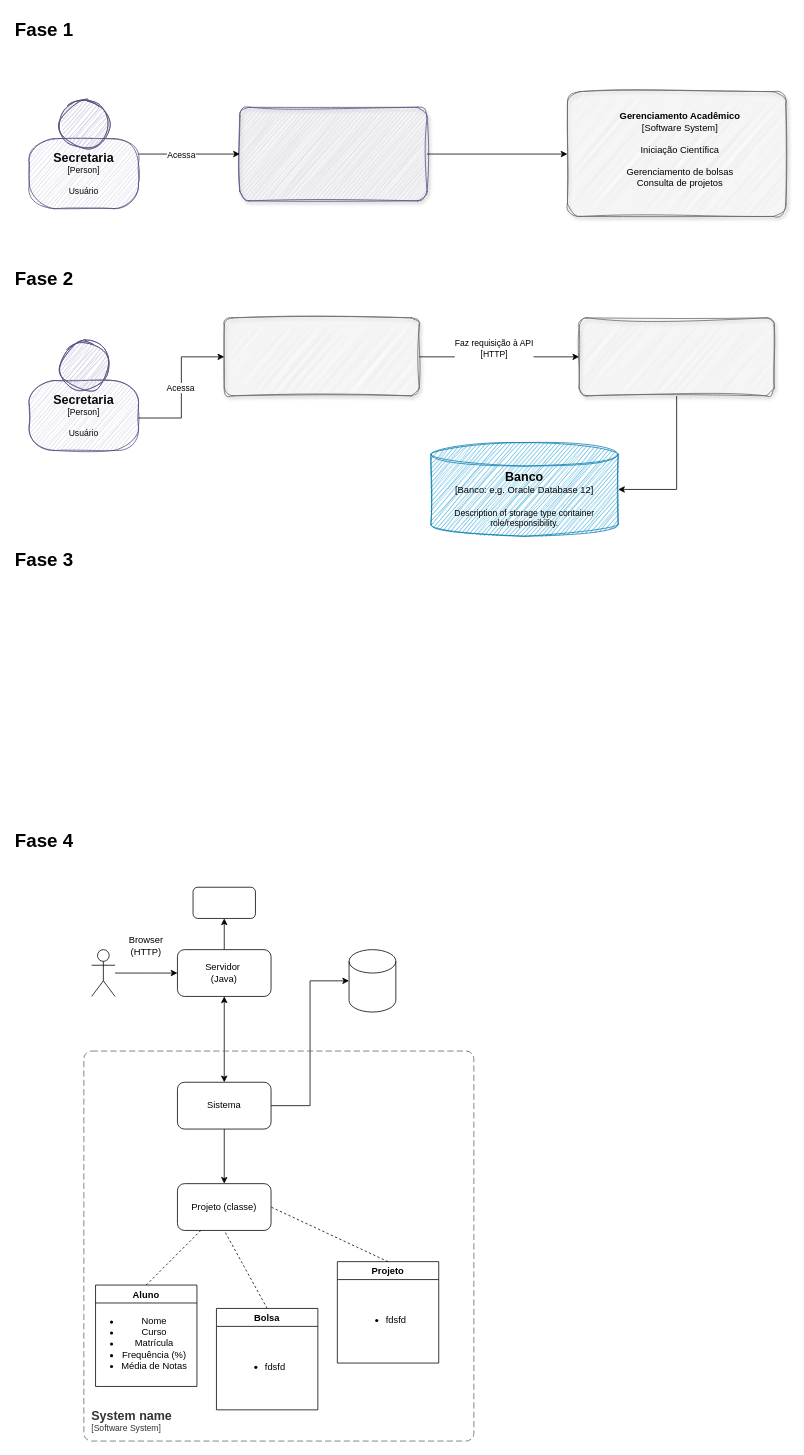
This 804x1455 diagram has some shape labels left out. The centre of each missing label's shape, as x and y in pixels:
"Back End [Área] Java, Servlet" belongs at (x=677, y=357).
"Banco" belongs at (x=372, y=980).
"Front End [Área] Navegador, HTML, CSS, Framework" belongs at (x=322, y=357).
"Secretaria (usuário)" belongs at (x=103, y=972).
"SOLIS" belongs at (x=223, y=902).
"Solis [External Software System] Portal Acadêmico" belongs at (x=334, y=154).
